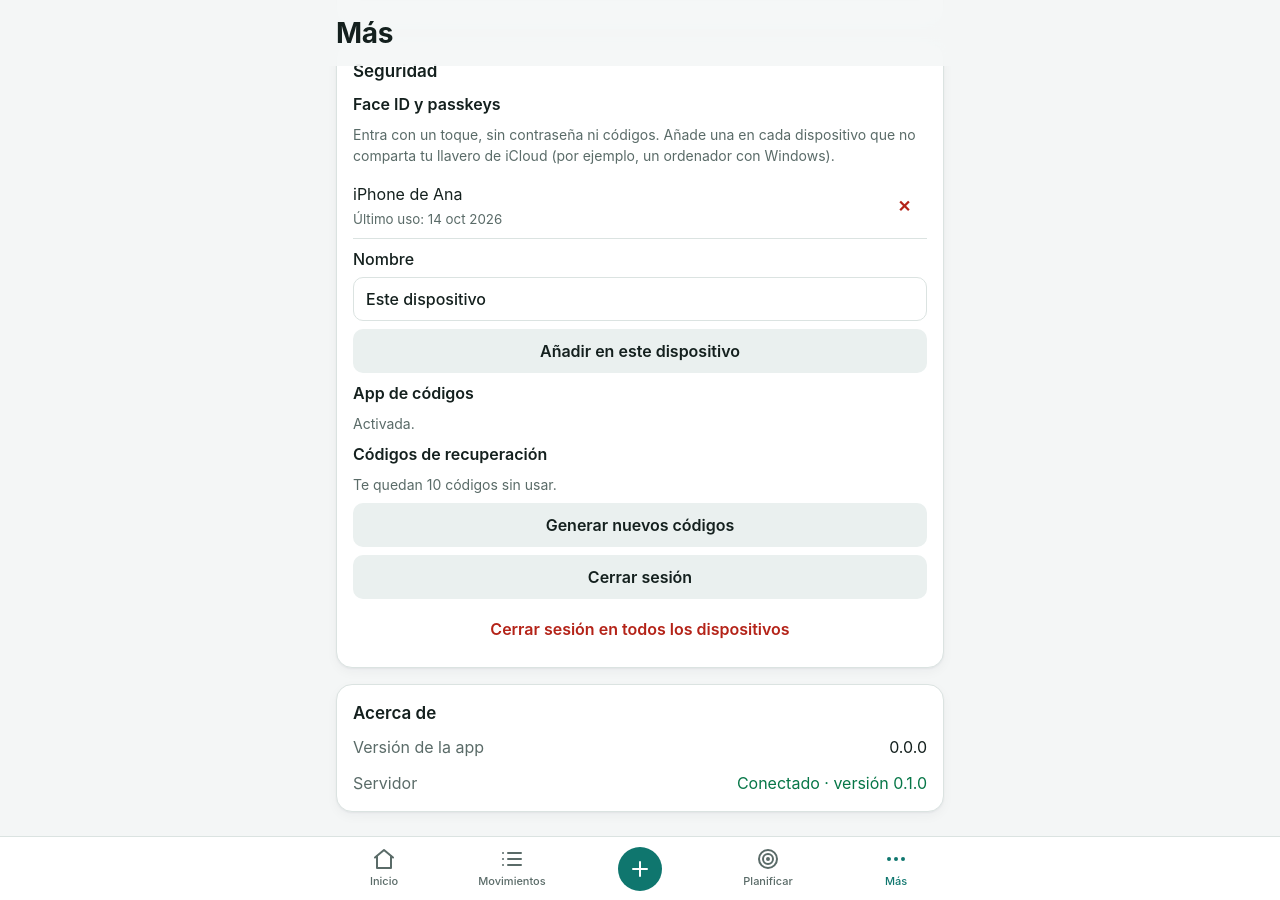
Test: settings › signs out and goes back to the sign-in page
This screenshot has width=1280, height=900.
(page scrolled)
Step 1. Click the button "Cerrar sesión" → (640,578), box [353,556,927,600]
(page scrolled)
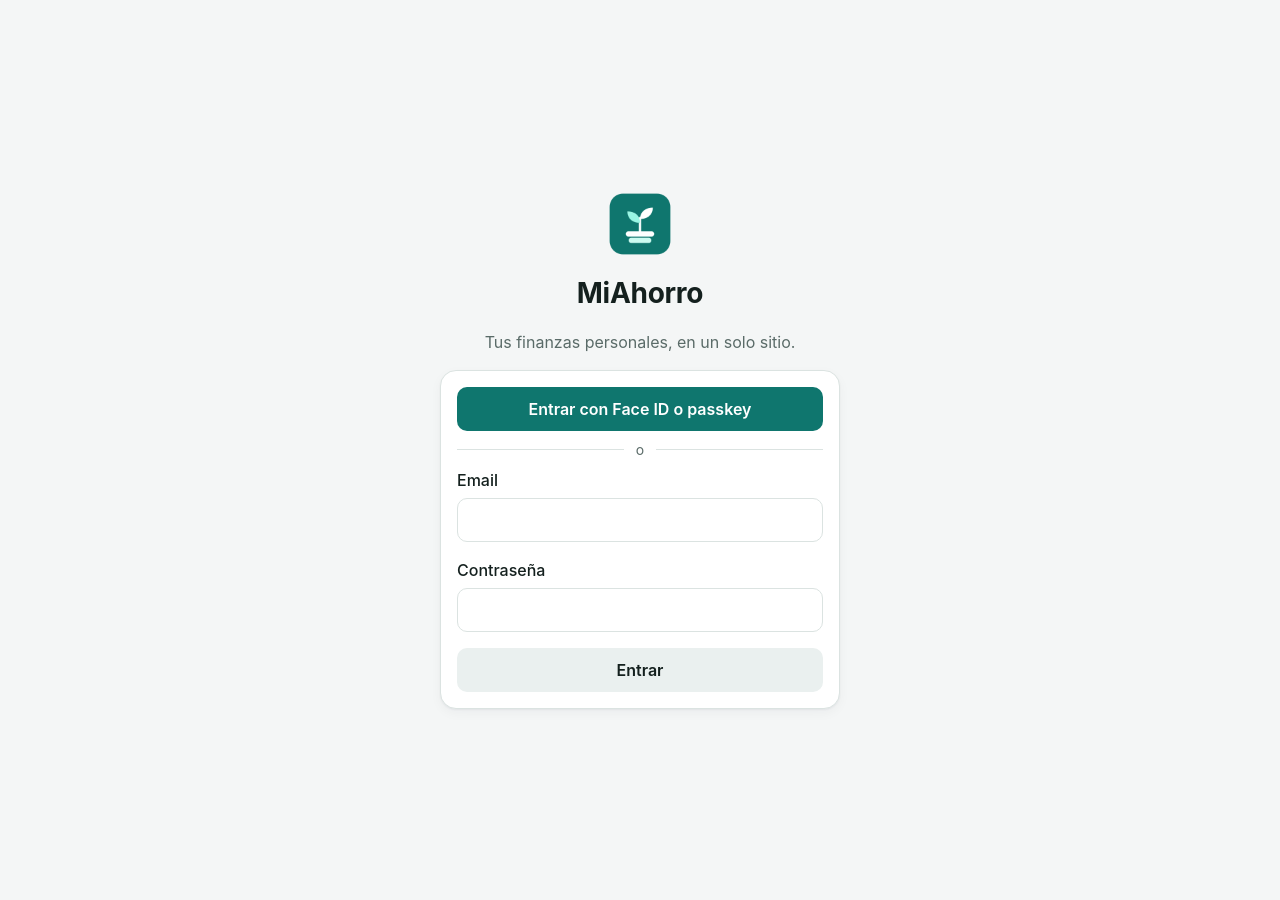
Expected: the button "Entrar" is shown, [457,648,823,692]
